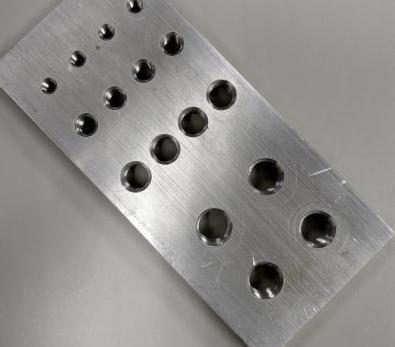hole: (194, 206, 234, 246), (245, 156, 285, 195), (298, 209, 337, 249), (245, 261, 284, 299), (205, 78, 238, 111), (119, 160, 152, 193), (176, 105, 209, 137), (148, 133, 181, 165), (158, 30, 185, 56), (130, 57, 156, 83), (101, 85, 128, 110), (73, 112, 99, 137), (39, 76, 58, 95), (68, 49, 87, 67), (97, 23, 115, 40), (126, 0, 144, 14)
